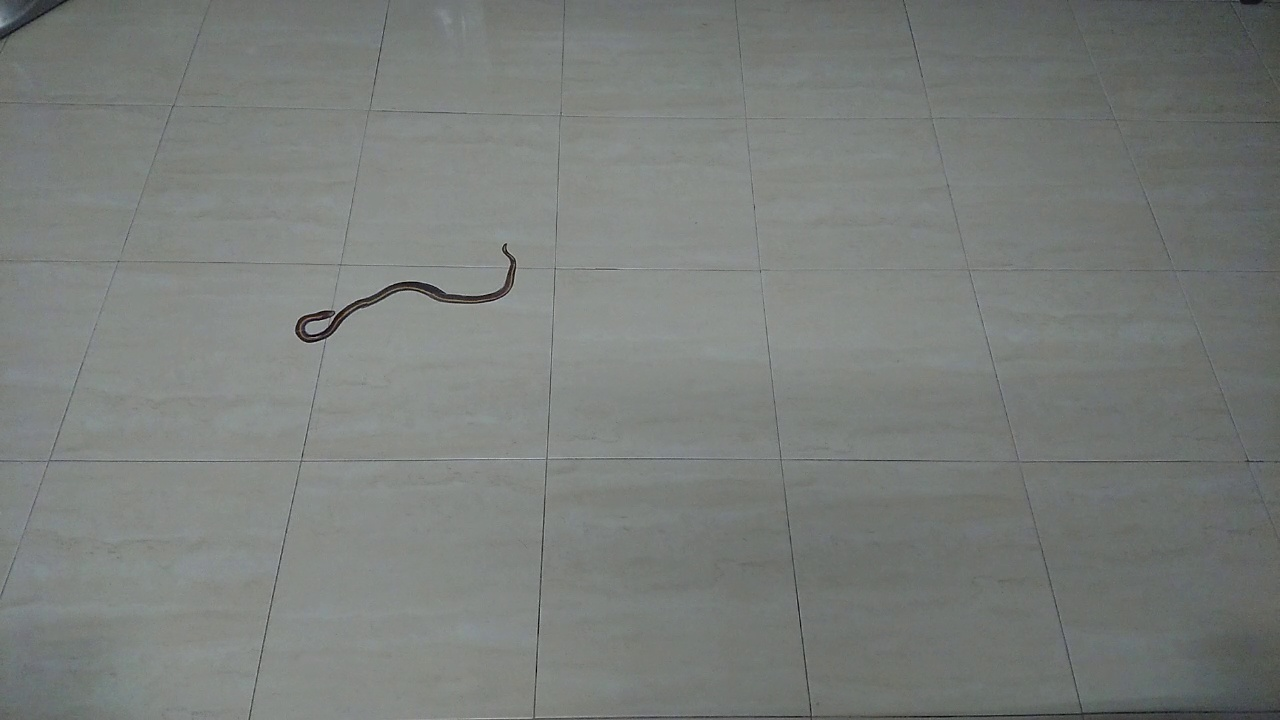snake: (276, 227, 537, 349)
